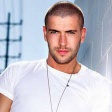male: (39, 1, 88, 67)
